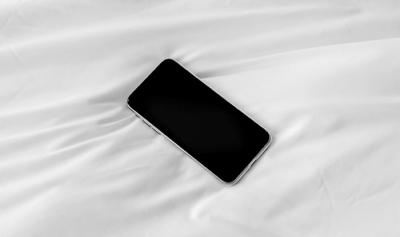cell-phone: (123, 55, 273, 189)
